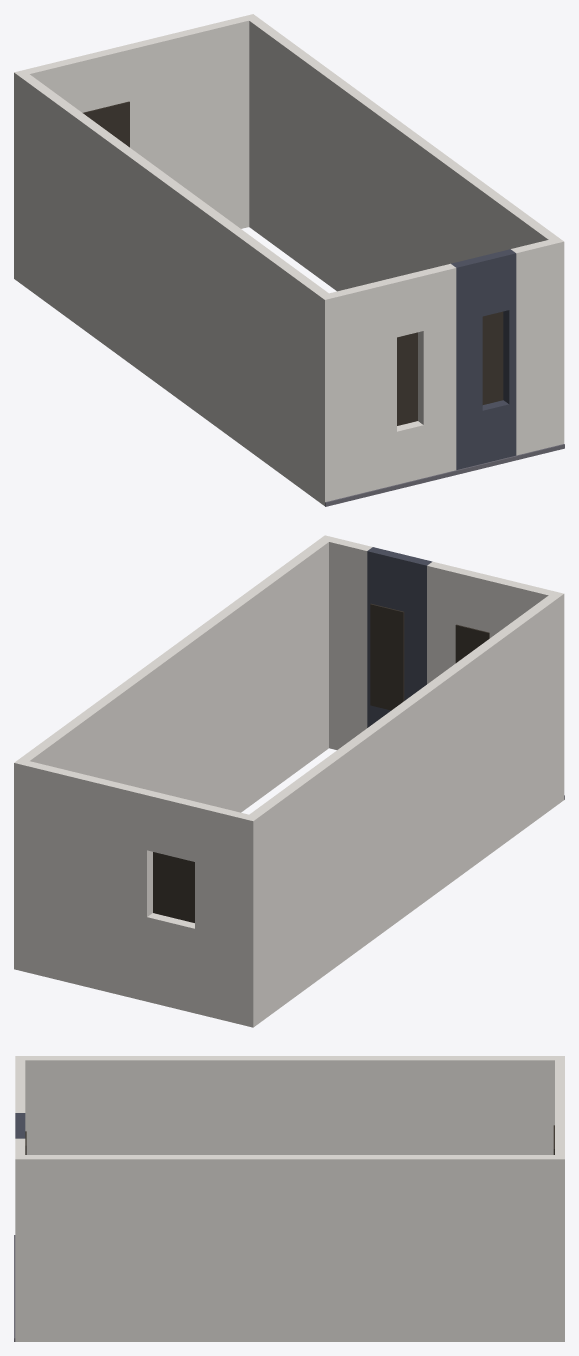
Rendered from SM_Floor_NarrowUpperScatterLow_White_364_Back_01.gltf.
3 views of the same model, one above another, from view 1: azimuth 30°, elevation 25°; view 2: azimuth 150°, elevation 25°; view 3: azimuth 270°, elevation 25° (orthographic). The views are drawn at different scales.
Visible parts, largest first — view 1: SM_Floor_NarrowUpperScatterLow_White_364_Back_01; view 2: SM_Floor_NarrowUpperScatterLow_White_364_Back_01; view 3: SM_Floor_NarrowUpperScatterLow_White_364_Back_01.
Part boxes in pixels (x1,y1,x2,y2): SM_Floor_NarrowUpperScatterLow_White_364_Back_01: (14,14,564,506); SM_Floor_NarrowUpperScatterLow_White_364_Back_01: (14,535,564,1027); SM_Floor_NarrowUpperScatterLow_White_364_Back_01: (14,1056,564,1341).
Size of the model in its own units: 3.64 by 3 by 8.21.
Materials: 1 (1 with a texture image).
